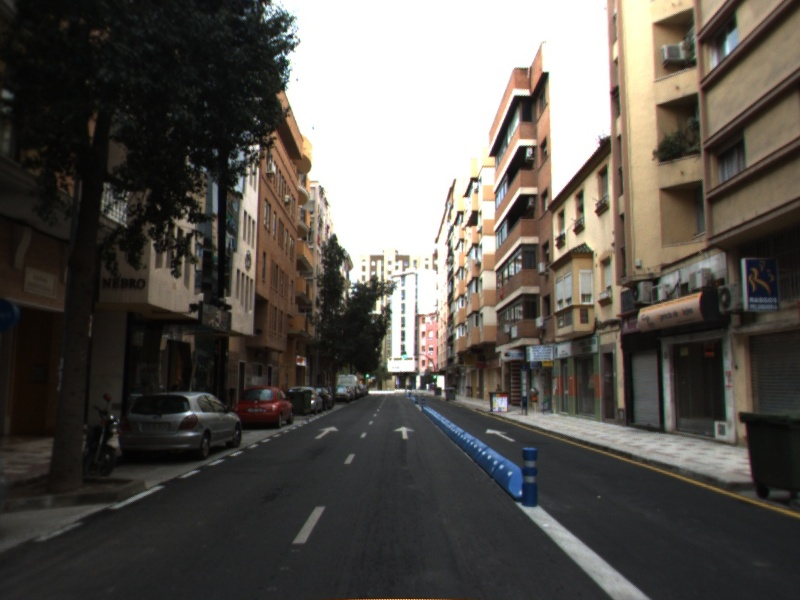STRAIGHT: (484, 427, 517, 443), (313, 424, 340, 440), (392, 424, 416, 441)
